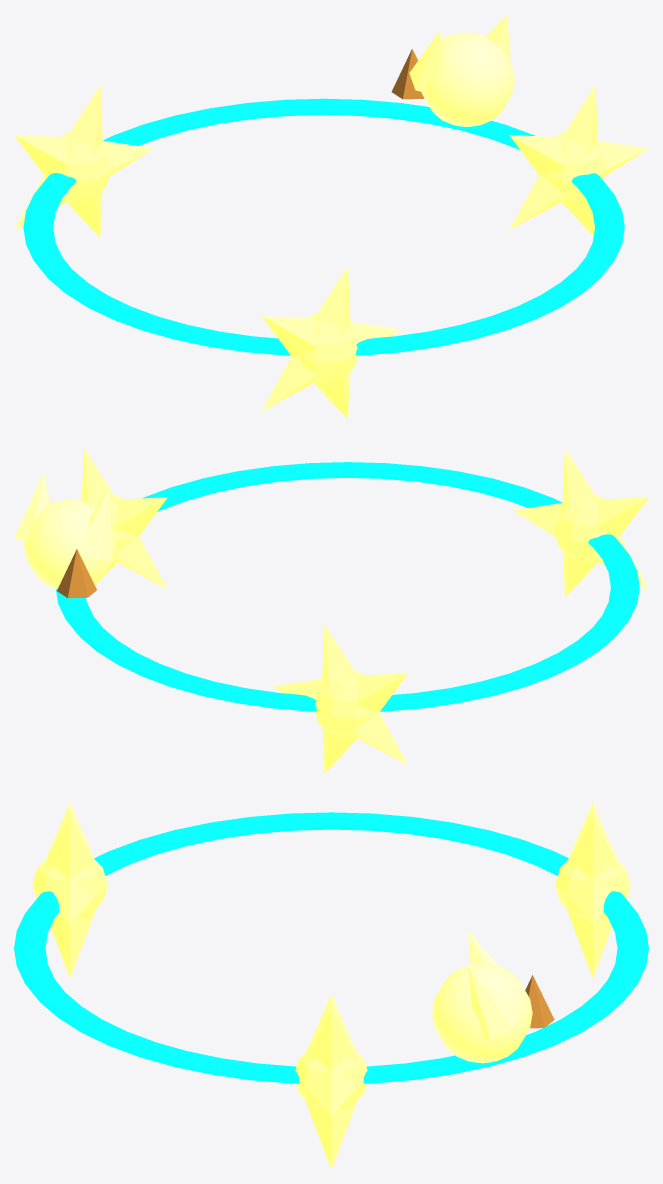
Rendered from dizzy-stars.glb.
3 renders of one model, top to bottom at view 1: azimuth 30°, elevation 25°; view 2: azimuth 150°, elevation 25°; view 3: azimuth 270°, elevation 25°, orthographic. The views are drawn at different scales.
Parts seen in each view (by area): view 1: Dizzy_Ring, Bird_Body, Star_2_Core, Star_1_Core, Star_0_Core, Star_1_P2, Star_2_P2, Star_0_P2, Star_2_P1, Star_1_P1, Star_0_P1, Star_0_P3 (+8 smaller); view 2: Dizzy_Ring, Bird_Body, Star_1_Core, Star_2_Core, Bird_Wing_L, Star_1_P2, Star_2_P2, Star_0_P2, Star_1_P1, Star_2_P1, Star_1_P3, Star_0_P3 (+8 smaller); view 3: Dizzy_Ring, Bird_Body, Bird_Wing_R, Star_0_Core, Star_1_Core, Star_2_Core, Star_1_P1, Star_2_P1, Star_0_P1, Star_0_P4, Star_1_P4, Star_2_P4 (+4 smaller).
Boxes of the visible parts, <box> form: Dizzy_Ring: <box>23,98,624,355</box>; Bird_Body: <box>421,32,514,126</box>; Star_2_Core: <box>296,313,357,383</box>; Star_1_Core: <box>48,132,110,202</box>; Star_0_Core: <box>543,132,605,202</box>; Star_1_P2: <box>14,135,75,175</box>; Star_2_P2: <box>262,316,322,356</box>; Star_0_P2: <box>509,135,570,175</box>; Star_2_P1: <box>314,266,350,336</box>; Star_1_P1: <box>66,85,102,155</box>; Star_0_P1: <box>561,85,597,155</box>; Star_0_P3: <box>509,175,569,229</box>; Dizzy_Ring: <box>56,462,639,711</box>; Bird_Body: <box>23,499,116,589</box>; Star_1_Core: <box>315,671,374,738</box>; Star_2_Core: <box>554,495,615,562</box>; Bird_Wing_L: <box>78,489,112,560</box>; Star_1_P2: <box>349,673,407,712</box>; Star_2_P2: <box>589,497,648,536</box>; Star_0_P2: <box>112,497,167,536</box>; Star_1_P1: <box>322,624,357,693</box>; Star_2_P1: <box>562,448,597,517</box>; Star_1_P3: <box>349,712,408,765</box>; Star_0_P3: <box>114,536,167,589</box>; Dizzy_Ring: <box>14,812,648,1083</box>; Bird_Body: <box>432,963,532,1063</box>; Bird_Wing_R: <box>468,965,518,1039</box>; Star_0_Core: <box>295,1047,367,1108</box>; Star_1_Core: <box>555,856,630,917</box>; Star_2_Core: <box>32,856,107,917</box>; Star_1_P1: <box>566,816,619,877</box>; Star_2_P1: <box>43,816,96,877</box>; Star_0_P1: <box>305,1007,357,1068</box>; Star_0_P4: <box>305,1100,357,1169</box>; Star_1_P4: <box>566,908,611,977</box>; Star_2_P4: <box>51,908,96,977</box>.
Size of the model in its own units: 1.13 by 0.3379 by 1.01.
